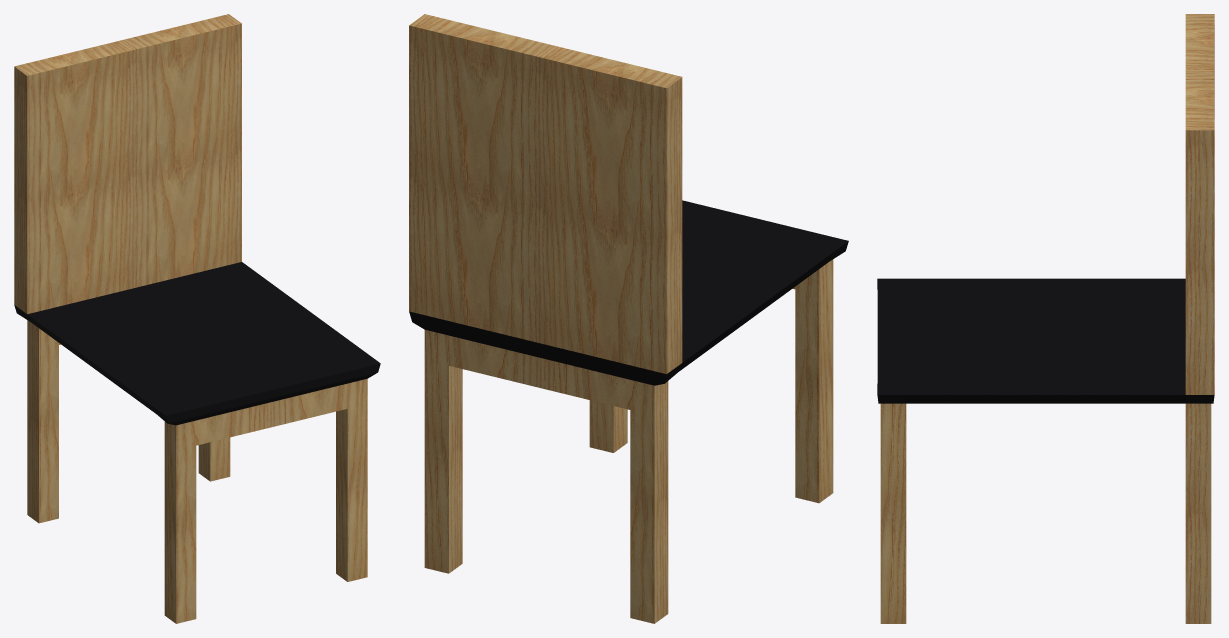
The model's file is chair.fbx.
The picture shows the model from 3 angles, left to right: view 1: azimuth 30°, elevation 25°; view 2: azimuth 150°, elevation 25°; view 3: azimuth 270°, elevation 25°; orthographic projection. The views are drawn at different scales.
Parts seen in each view (by area): view 1: chair; view 2: chair; view 3: chair.
Boxes of the visible parts, bbox=[...] form: chair: bbox=[14, 14, 380, 623]; chair: bbox=[409, 14, 848, 623]; chair: bbox=[877, 14, 1214, 623].
Bounding box in the file's own units: 40.82 × 81.77 × 49.98.
